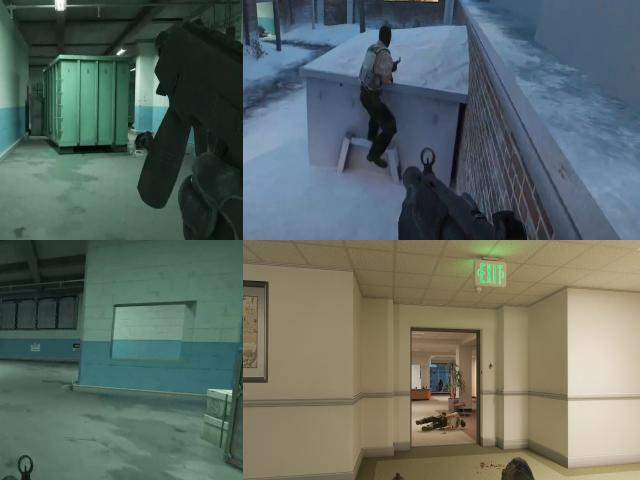CT: (439, 379, 443, 391)
Dead: (467, 452, 538, 480), (422, 414, 468, 437), (130, 126, 156, 152)
T: (354, 37, 402, 108)
T-Head: (375, 24, 397, 49)
